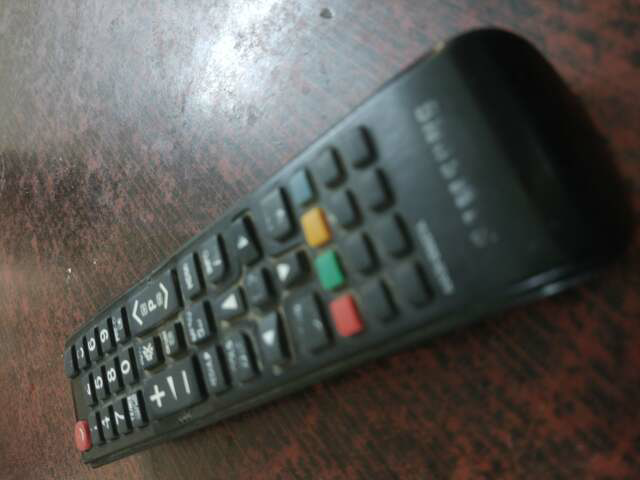remote: (60, 21, 632, 468)
